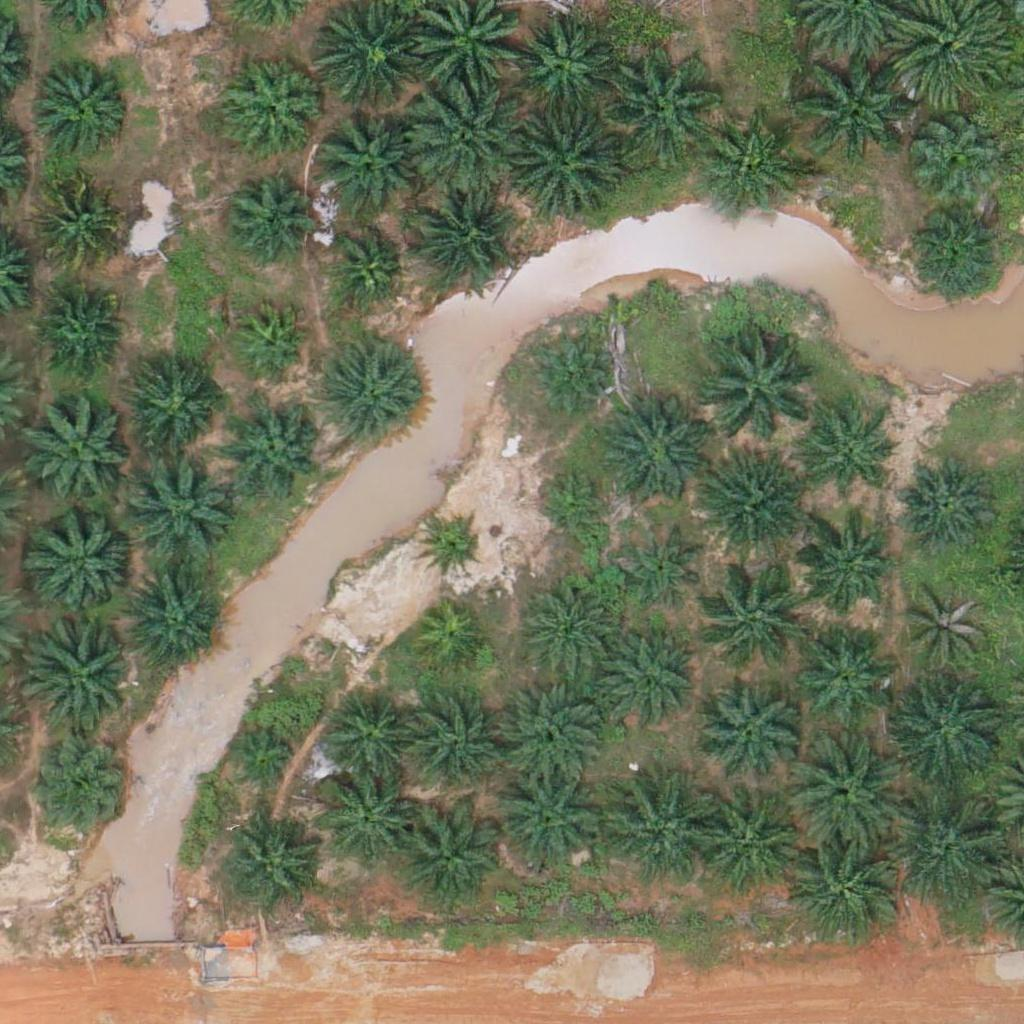Kelapa_Sawit: (505, 107, 618, 221), (789, 835, 902, 948), (702, 325, 815, 438), (596, 398, 709, 511), (494, 676, 607, 789), (491, 764, 604, 877), (393, 803, 506, 916), (122, 449, 235, 562), (23, 393, 136, 506), (27, 504, 140, 617), (312, 3, 425, 116), (701, 556, 813, 670), (599, 773, 711, 887), (894, 794, 1006, 907), (890, 673, 1002, 786), (794, 49, 906, 162), (788, 735, 900, 848), (689, 792, 801, 905), (692, 453, 804, 566), (605, 49, 717, 162), (413, 82, 525, 195), (26, 616, 138, 729), (794, 519, 894, 620), (696, 681, 796, 782), (313, 112, 413, 213), (596, 632, 696, 733), (404, 698, 504, 799), (319, 689, 419, 790), (121, 570, 221, 671), (221, 815, 321, 916), (33, 54, 133, 155), (29, 743, 129, 844), (512, 13, 612, 114), (904, 201, 1004, 301), (895, 454, 995, 554), (794, 623, 894, 723), (701, 122, 801, 222), (411, 187, 511, 287), (321, 347, 421, 447), (519, 580, 619, 680), (314, 769, 414, 869), (224, 55, 324, 155), (227, 400, 327, 500), (908, 108, 996, 196), (619, 526, 707, 614), (524, 334, 612, 422), (221, 172, 309, 260), (132, 367, 220, 455), (32, 178, 120, 266), (904, 585, 991, 673), (806, 415, 893, 503), (35, 286, 122, 374), (233, 303, 308, 379), (328, 229, 403, 304), (536, 465, 611, 540), (412, 603, 487, 678), (227, 727, 302, 802), (421, 516, 484, 579)
